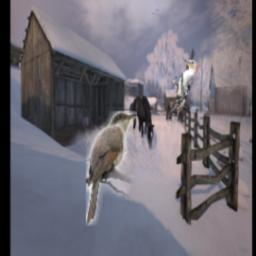Cuckoo: (86, 111, 137, 225)
Woodpecker: (167, 57, 197, 117)
